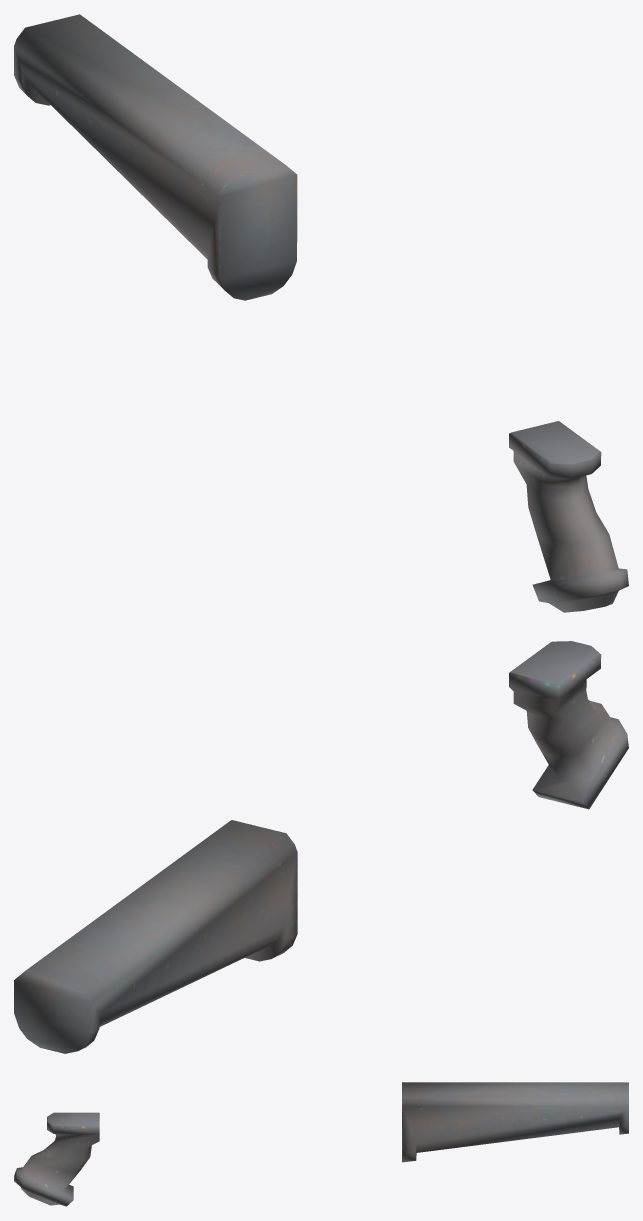
Rendered from grip1.obj.
3 renders of one model, top to bottom at view 1: azimuth 30°, elevation 25°; view 2: azimuth 150°, elevation 25°; view 3: azimuth 270°, elevation 25°, orthographic. The views are drawn at different scales.
Visible parts, largest first — view 1: grip1; view 2: grip1; view 3: grip1.
Boxes of the visible parts, x1,y1,x2,y2 form: grip1: (14,14,628,612); grip1: (14,641,628,1053); grip1: (14,1082,628,1206).
Bounding box in the file's own units: 5.56 × 14.02 × 69.89.
